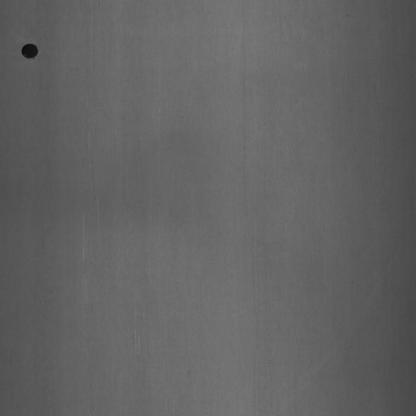punching_hole: (19, 39, 40, 62)
